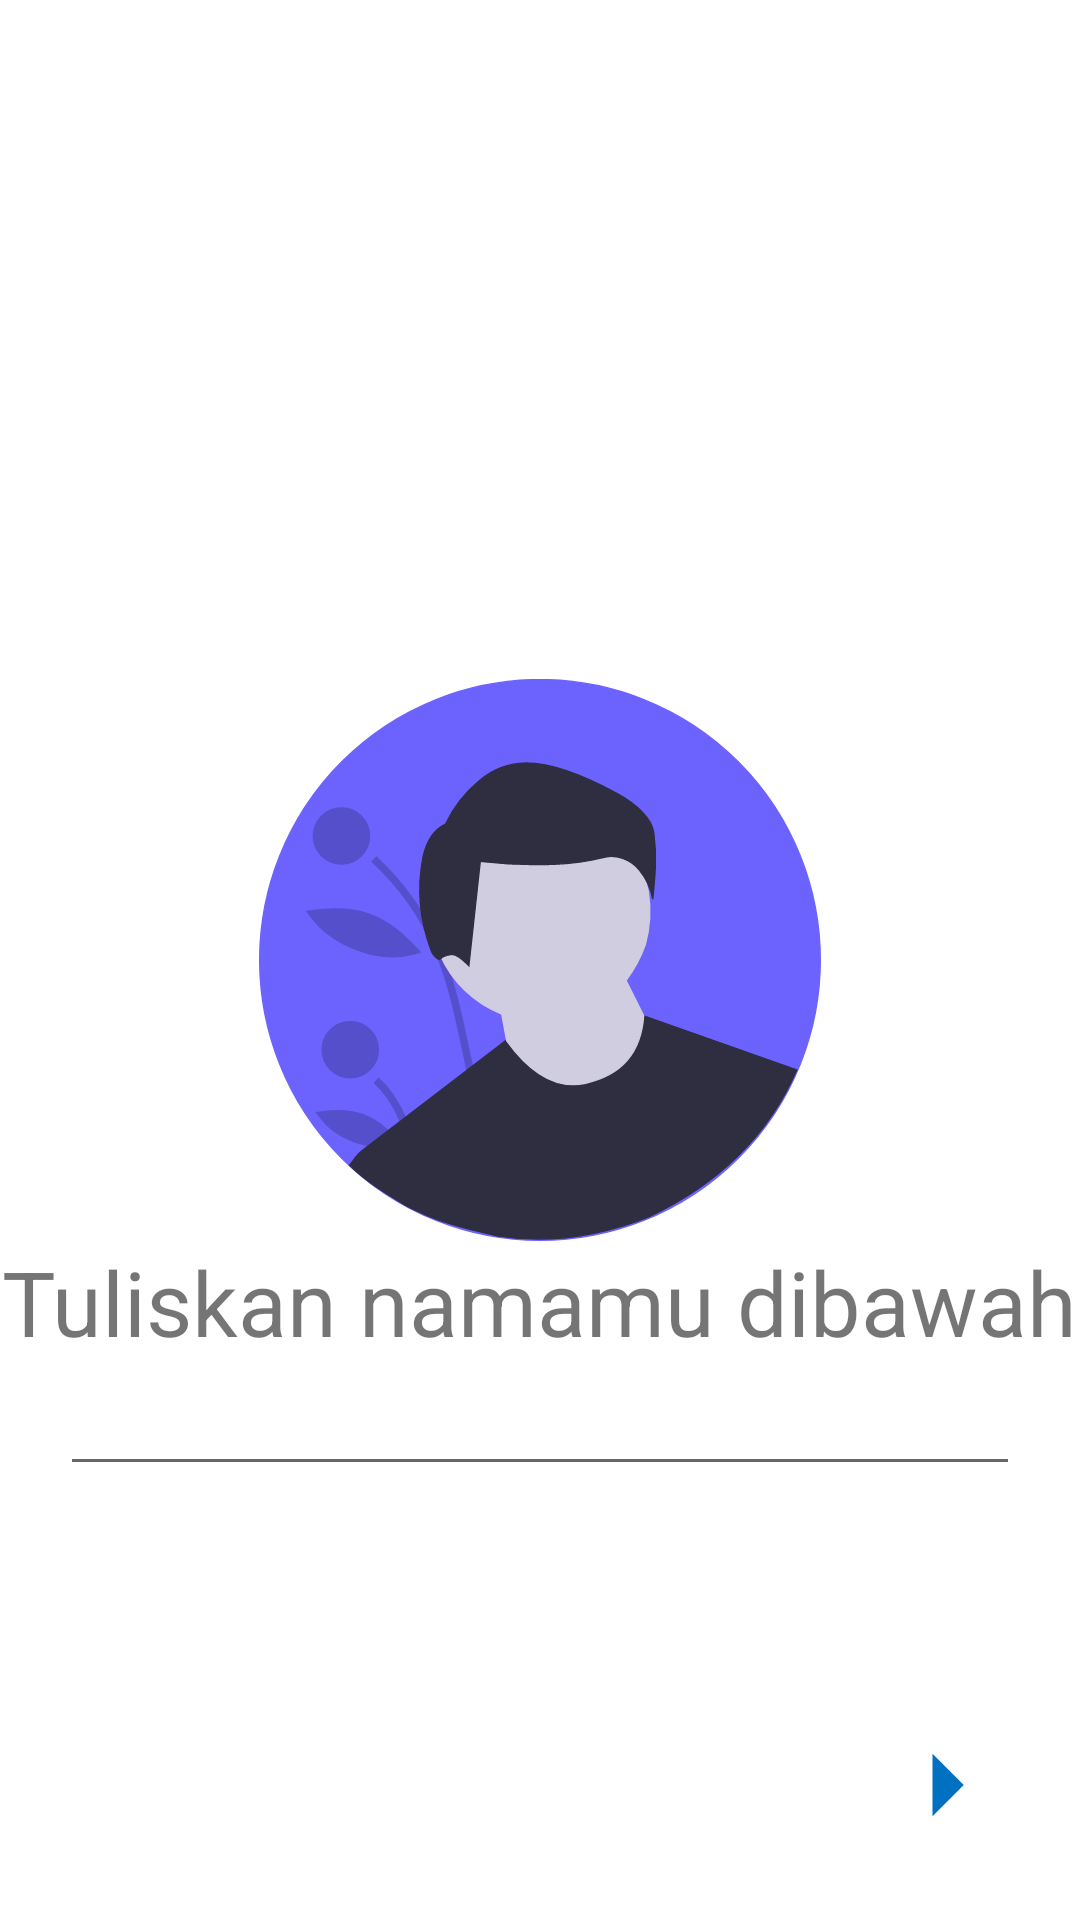

Icons on this 1080w x 1920h Android screen, each with the point to tap as (x,y):
arrow right: (948,1785)
